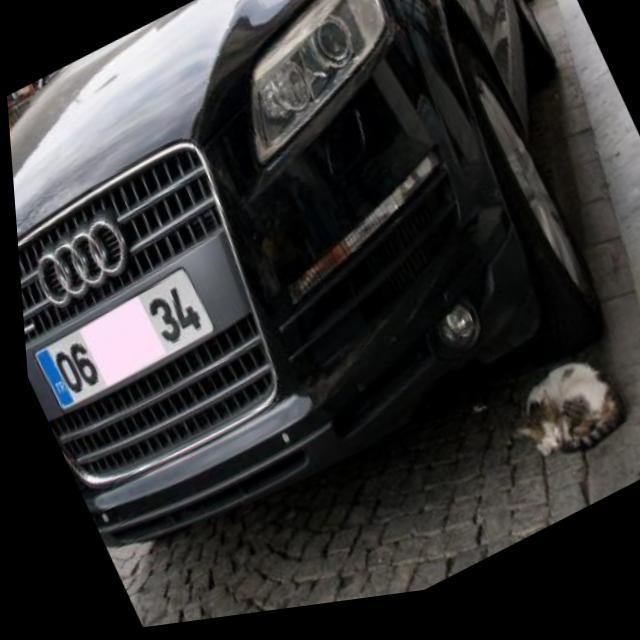license_plate: (22, 270, 214, 416)
